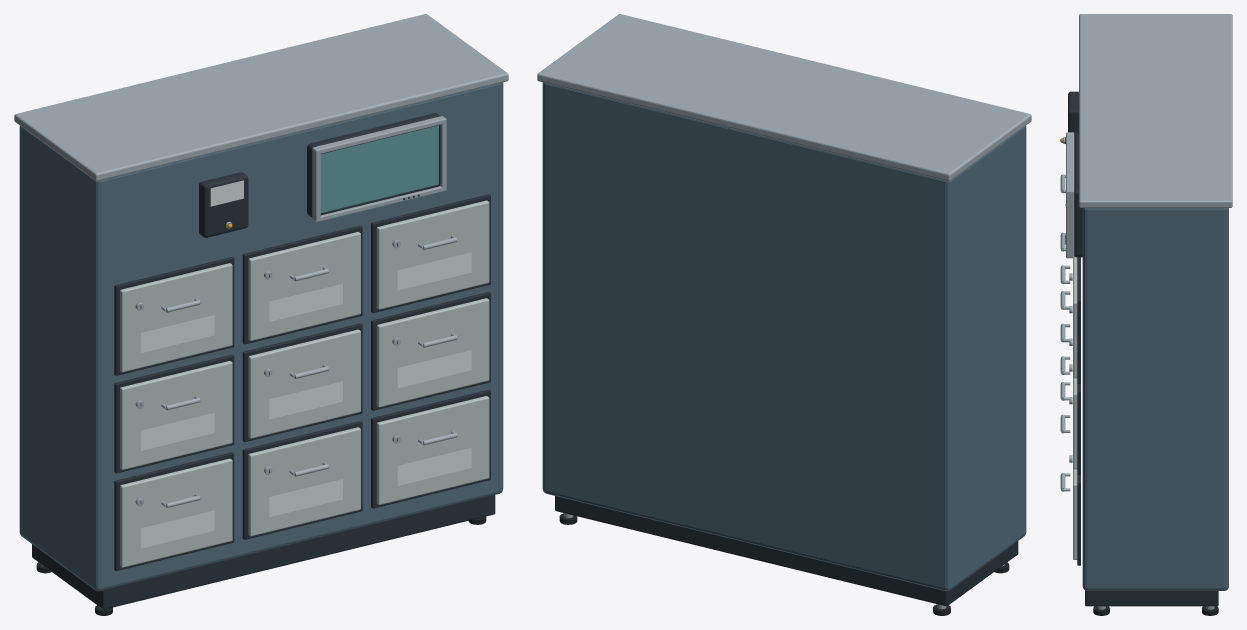
Rendered from OD_ControlledNutritionBank.fbx.
3 views of the same model, side by side, from view 1: azimuth 30°, elevation 25°; view 2: azimuth 150°, elevation 25°; view 3: azimuth 270°, elevation 25° (orthographic). The views are drawn at different scales.
Visible parts, largest first — view 1: OD_ControlledNutritionBank; view 2: OD_ControlledNutritionBank; view 3: OD_ControlledNutritionBank.
Part boxes in pixels (x1,y1,x2,y2): OD_ControlledNutritionBank: (14,14,508,615); OD_ControlledNutritionBank: (537,14,1031,615); OD_ControlledNutritionBank: (1060,14,1232,615).
Bounding box in the file's own units: 212 × 222 × 82.5.
